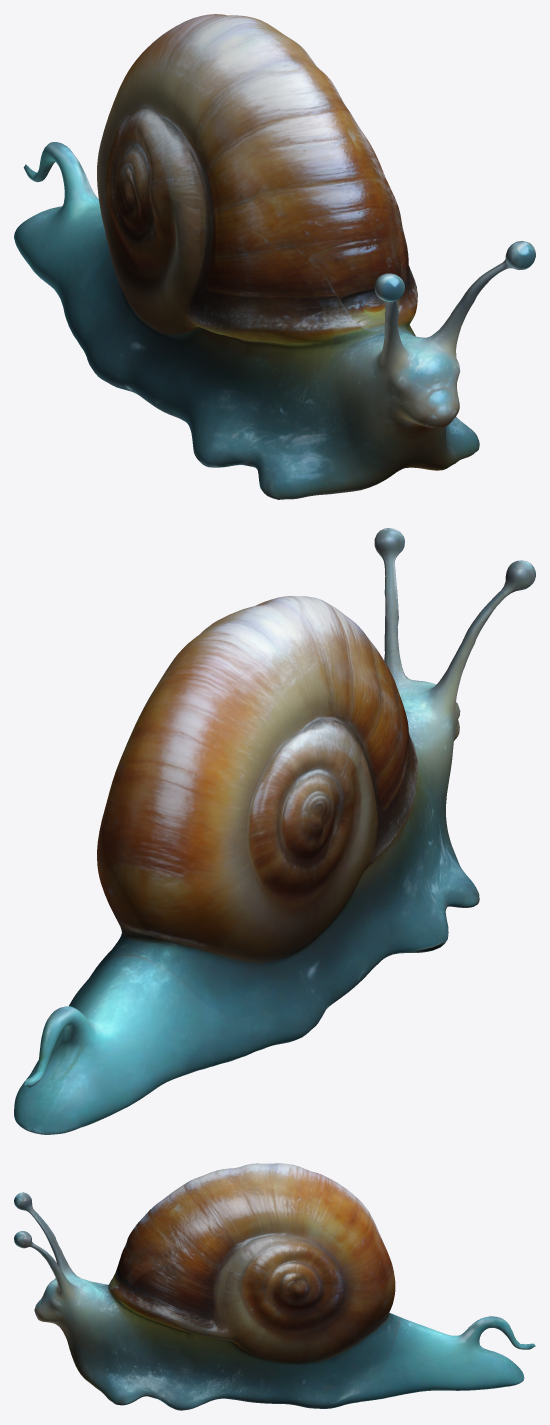
File: Snail.glb
The picture shows the model from 3 angles, top to bottom: view 1: azimuth 30°, elevation 25°; view 2: azimuth 150°, elevation 25°; view 3: azimuth 270°, elevation 25°; orthographic projection. The views are drawn at different scales.
Visible parts, largest first — view 1: Mesh_0; view 2: Mesh_0; view 3: Mesh_0.
Boxes of the visible parts, left/top/right/bottom form: Mesh_0: left=14, top=14, right=535, bottom=499; Mesh_0: left=14, top=528, right=535, bottom=1134; Mesh_0: left=14, top=1163, right=535, bottom=1410.
Bounding box in the file's own units: 0.6486 × 0.92 × 2.02.
1 material, 1 textured.
